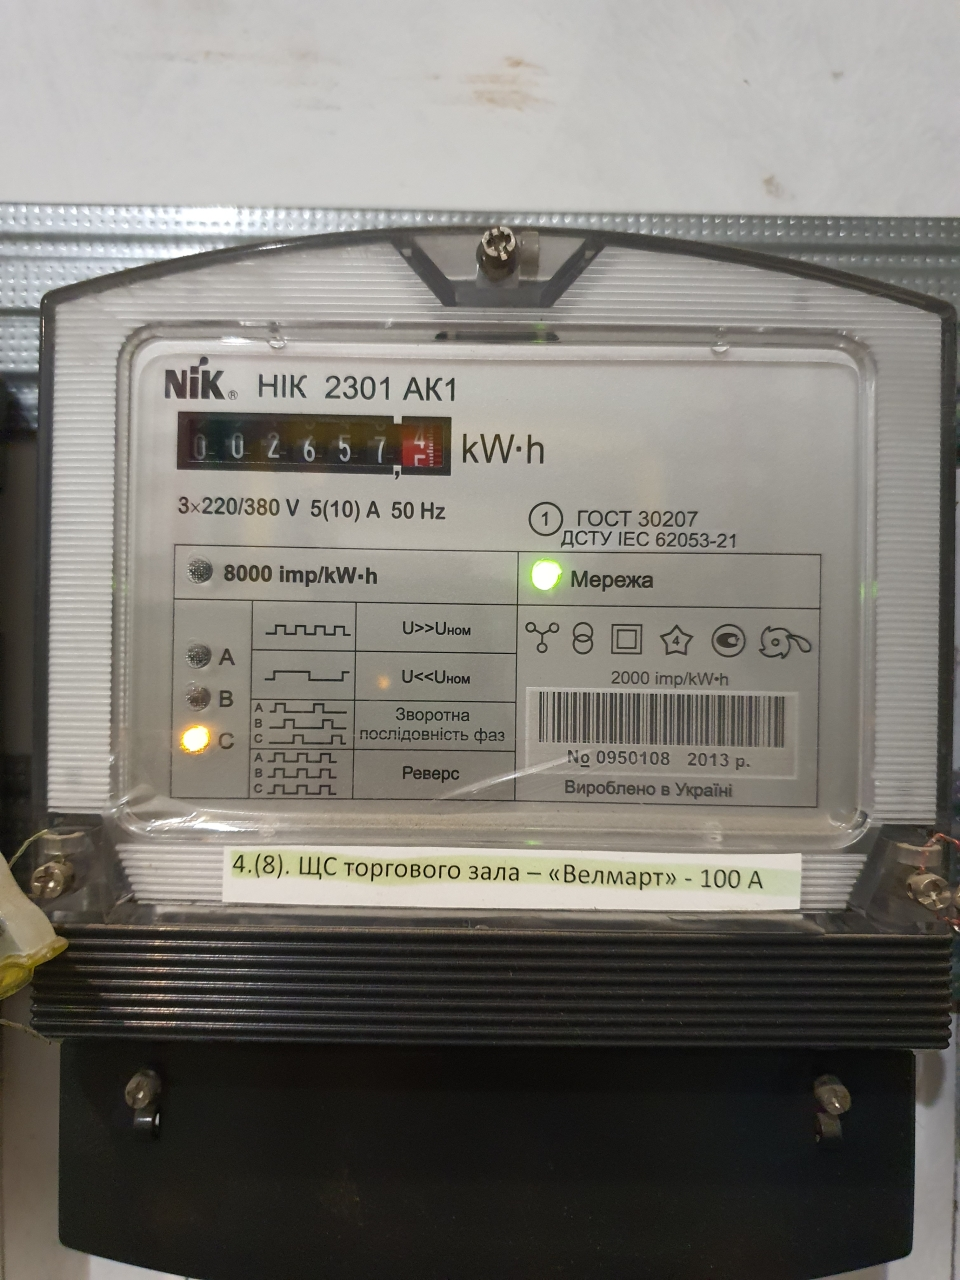0: (229, 429, 245, 460), (191, 432, 208, 460)
2: (265, 430, 281, 459)
4: (412, 423, 427, 449)
5: (337, 432, 353, 463), (412, 453, 427, 467)
6: (302, 433, 316, 462)
7: (373, 433, 387, 465)
screen: (168, 400, 463, 487)
